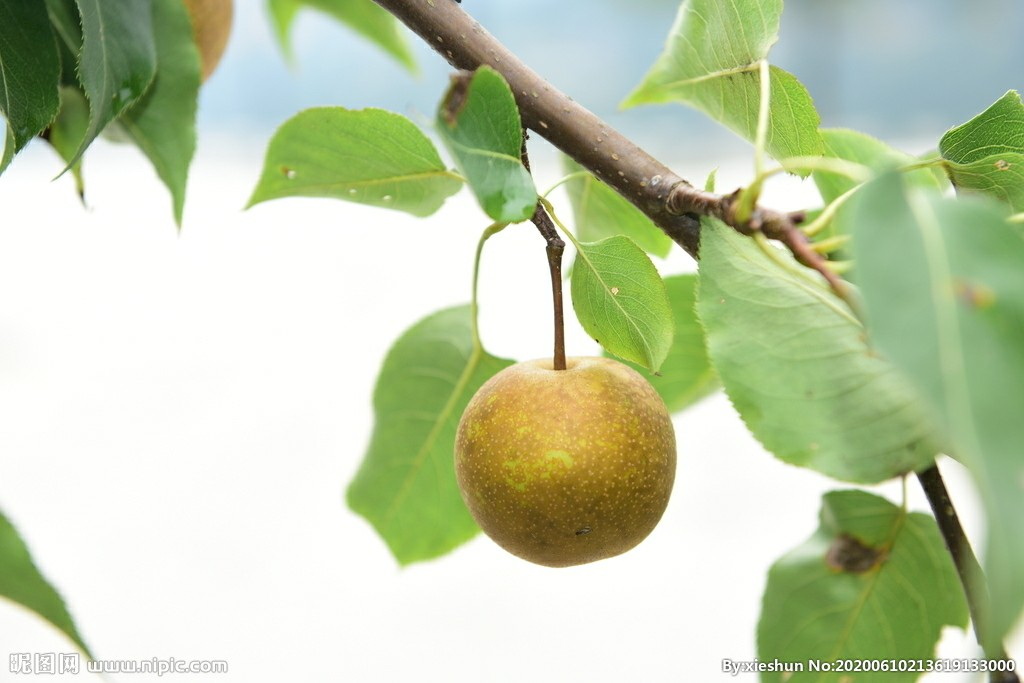pear: (452, 354, 676, 567)
